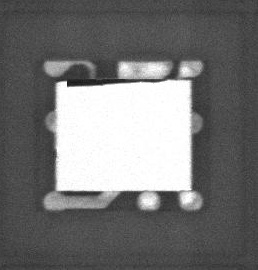DIE_BROKEN: (64, 76, 172, 88)
